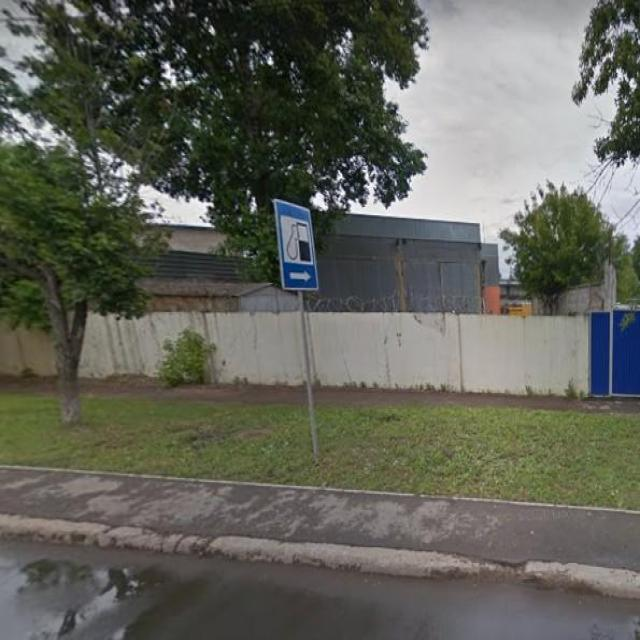traffic_sign: (270, 191, 324, 296)
